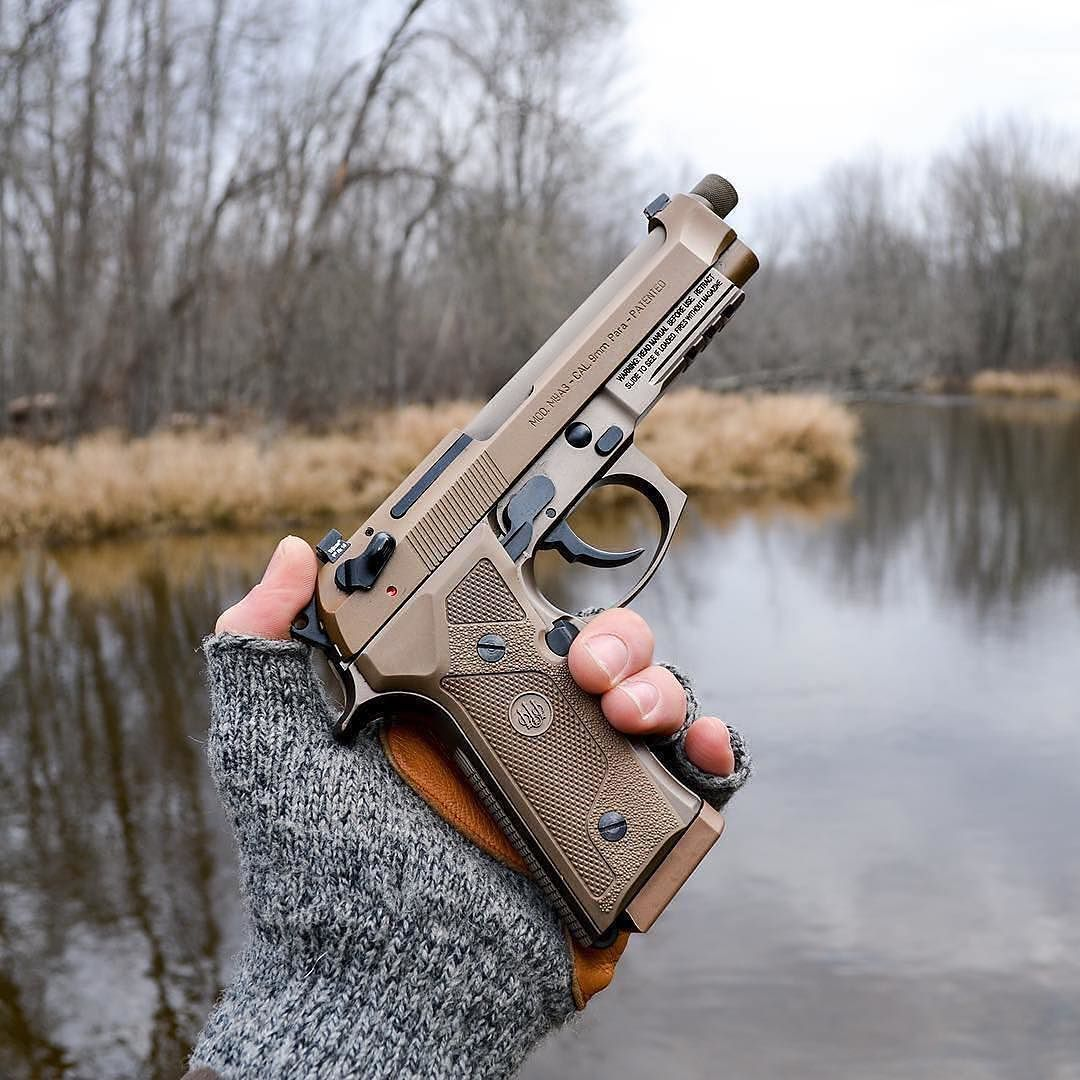gun: (286, 166, 778, 993)
